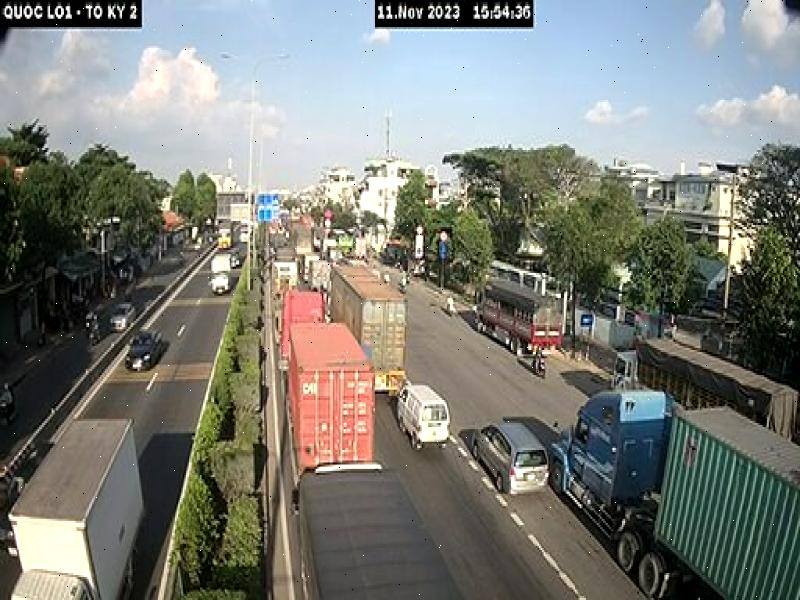truck: (12, 417, 145, 600)
